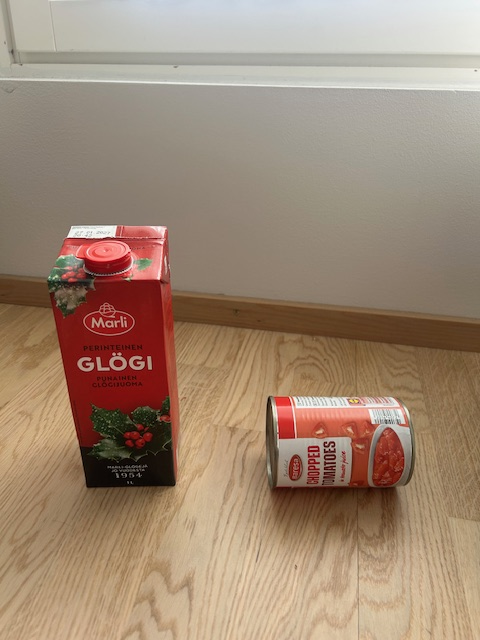Dryckeskartong: (46, 225, 182, 488)
Konservburk: (265, 396, 417, 491)
